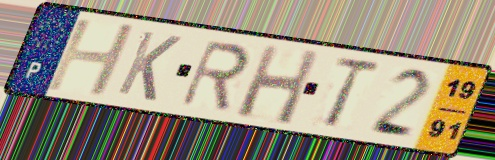2: (362, 68, 437, 139)
H: (41, 17, 140, 98), (233, 42, 323, 128)
K: (113, 27, 185, 104)
R: (176, 38, 253, 114)
T: (320, 56, 384, 131)
